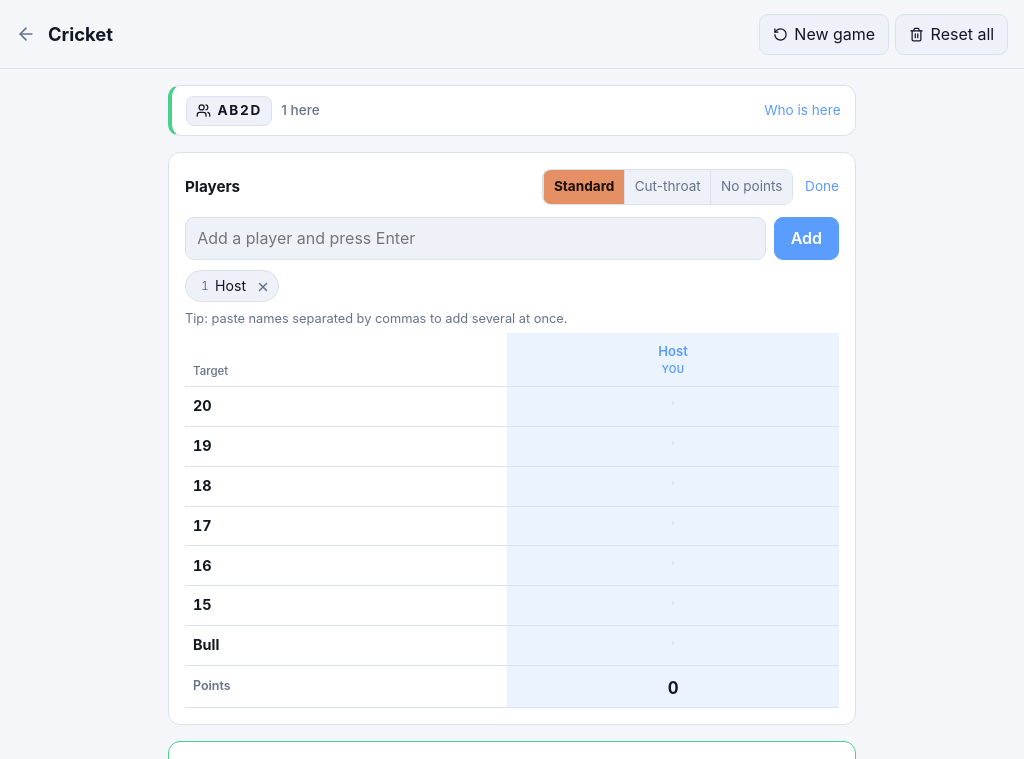
Test: renaming yourself in a room › makes the new name the one offered next time
This screenshot has width=1024, height=759.
Step 1. Click the button "Who is here" → click(802, 111), box [764,101,841,121]
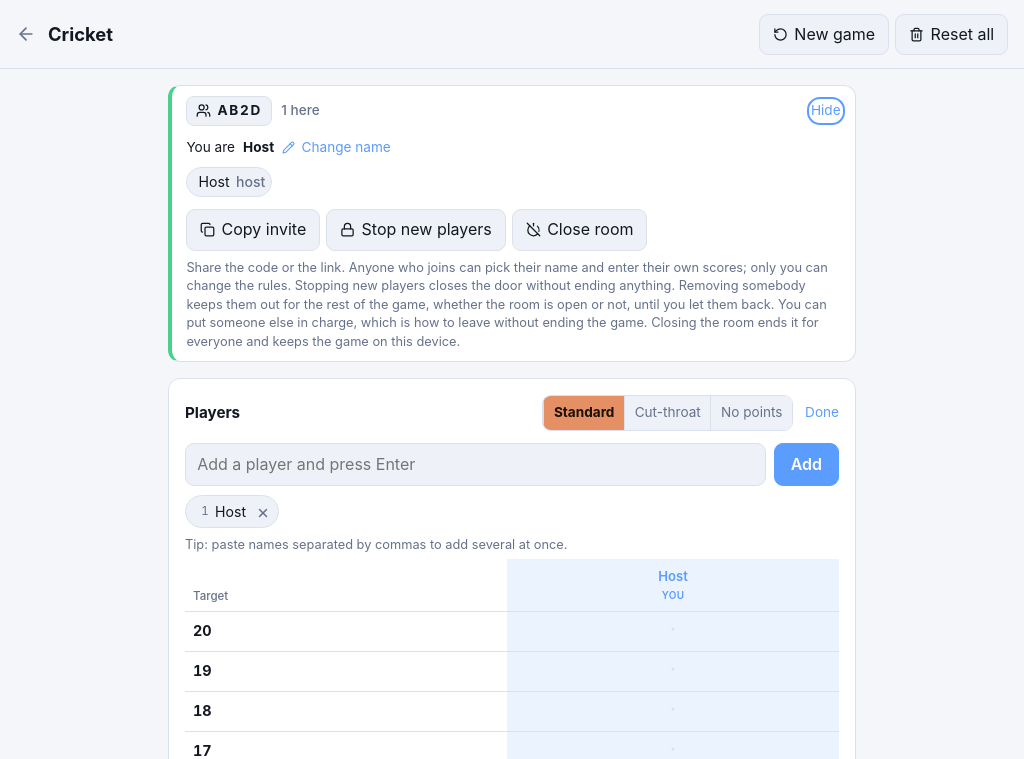
Step 2. Click the button "Change name" → click(336, 148), box [282,138,391,157]
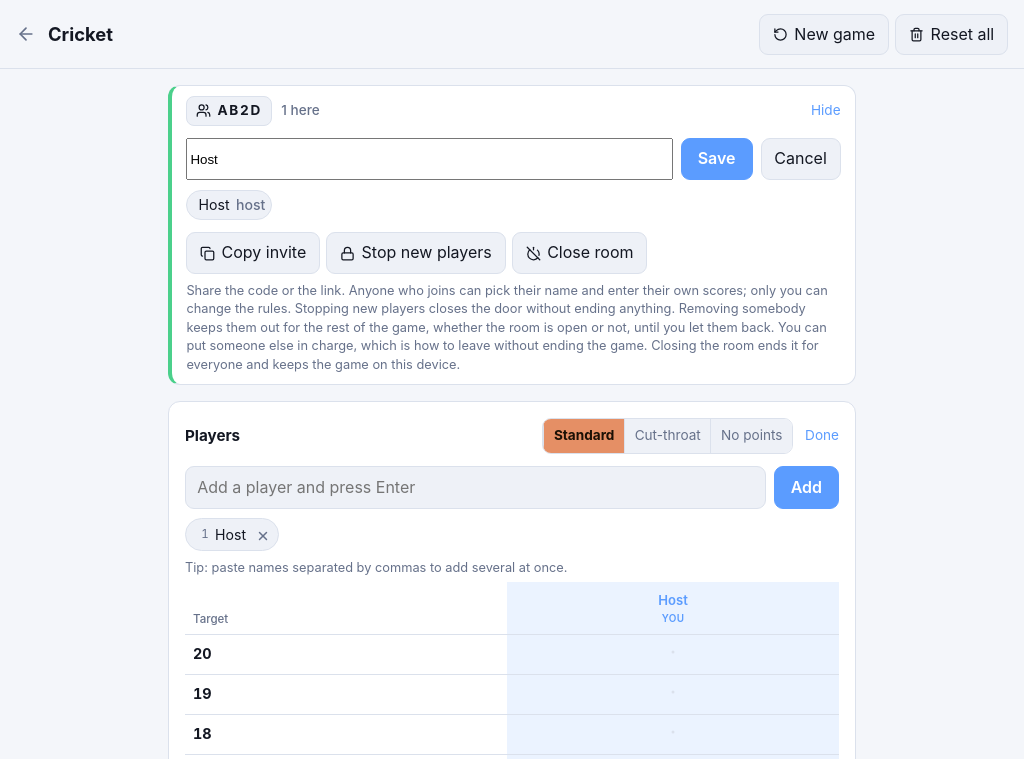
Step 3. Replace the text in the field named "Your name" with "Ada" → (430, 159), box [186,138,673,180]
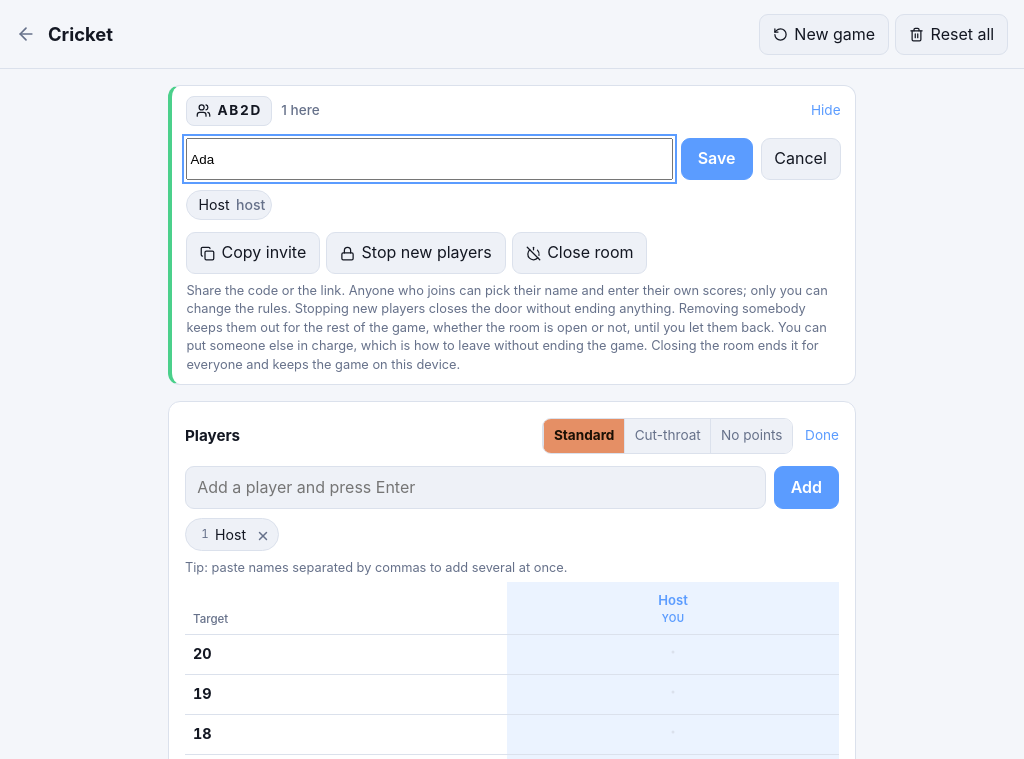
Step 4. Click the button "Save" → click(717, 159), box [681,138,753,180]
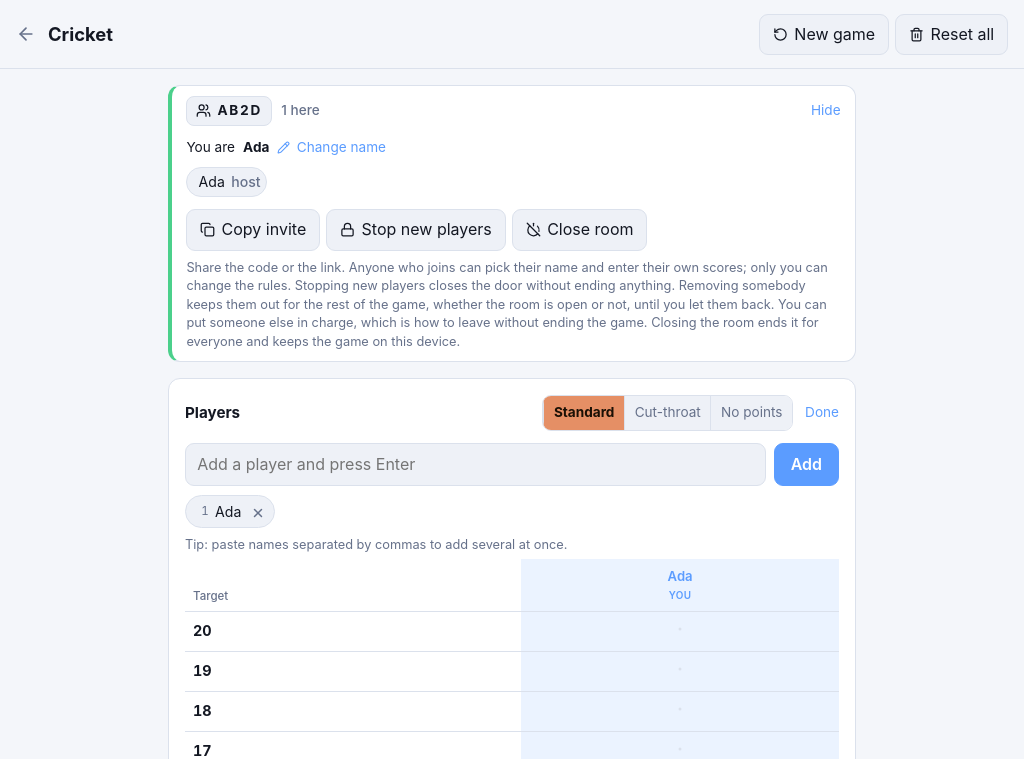
expect the text "Ada" next to "You are" is shown: met, box [243,139,269,155]
